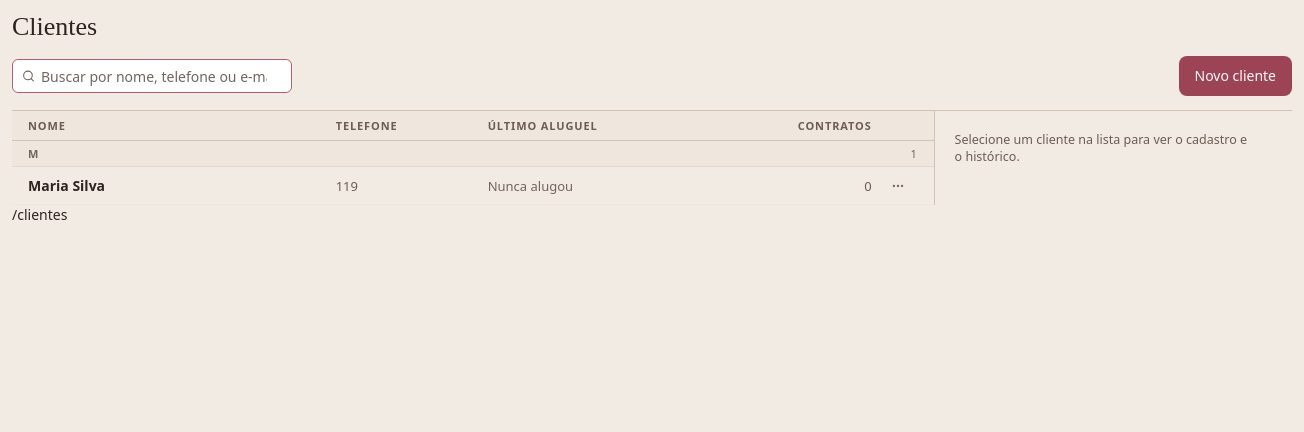
Test: ClientsPage › fills the detail panel when a row is clicked, without opening the drawer
Expected: the text "Selecione um cliente na lista para ver o cadastro e o histórico." is shown, [955,131,1272,165]
Step 1. Click the text "Maria Silva" → (67, 186), box [28,176,105,196]
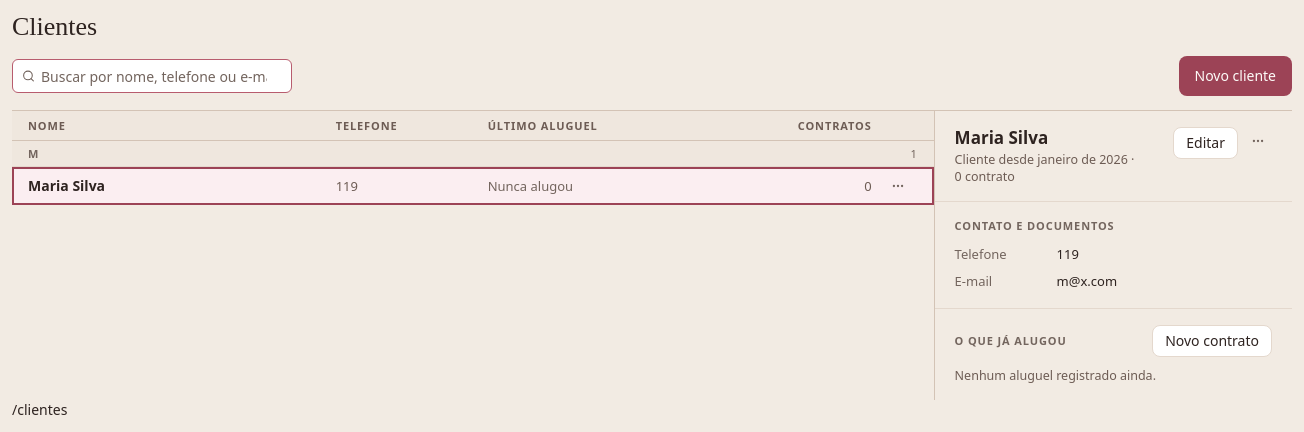
Now the text "Contato e documentos" is shown, box [955,218,1115,233]
Now the text "m@x.com" is shown, box [1057,272,1117,290]
